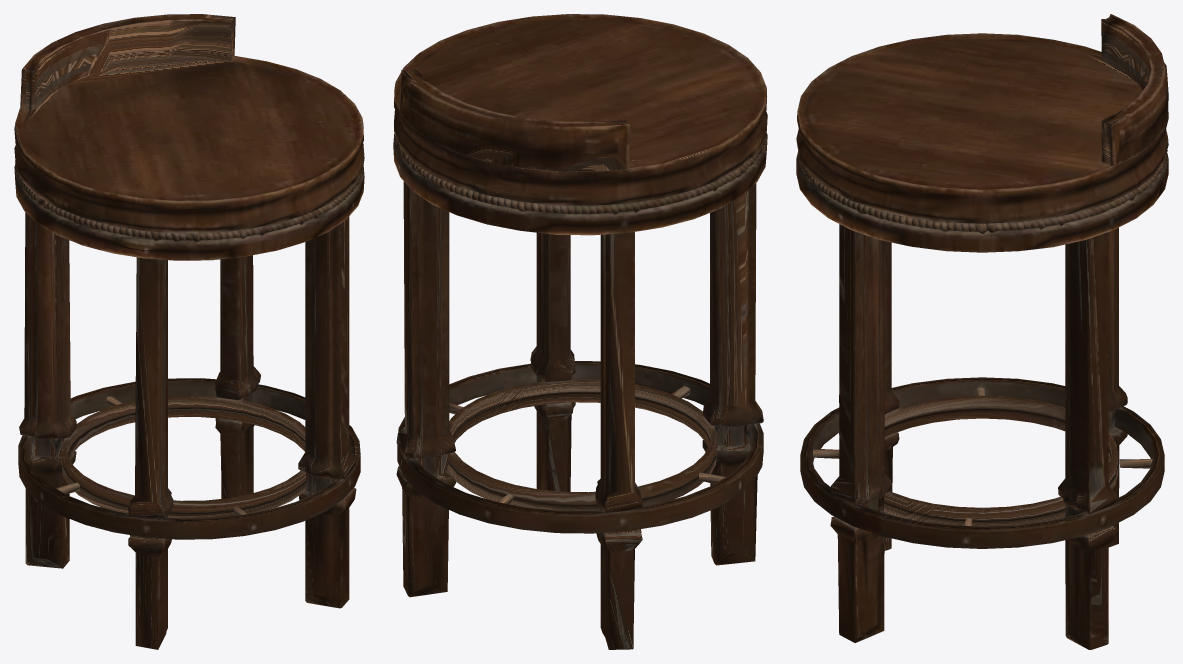
The model's file is bar_chair_round_01.glb.
3 renders of one model, left to right at view 1: azimuth 30°, elevation 25°; view 2: azimuth 150°, elevation 25°; view 3: azimuth 270°, elevation 25°, orthographic. The views are drawn at different scales.
Visible parts, largest first — view 1: bar_chair_round_01; view 2: bar_chair_round_01; view 3: bar_chair_round_01.
Part boxes in pixels (<box>): bar_chair_round_01: <box>14,14,364,649</box>; bar_chair_round_01: <box>393,14,767,649</box>; bar_chair_round_01: <box>796,14,1168,649</box>.
Size of the model in its own units: 0.4832 by 0.7505 by 0.4832.
1 material, 1 textured.
